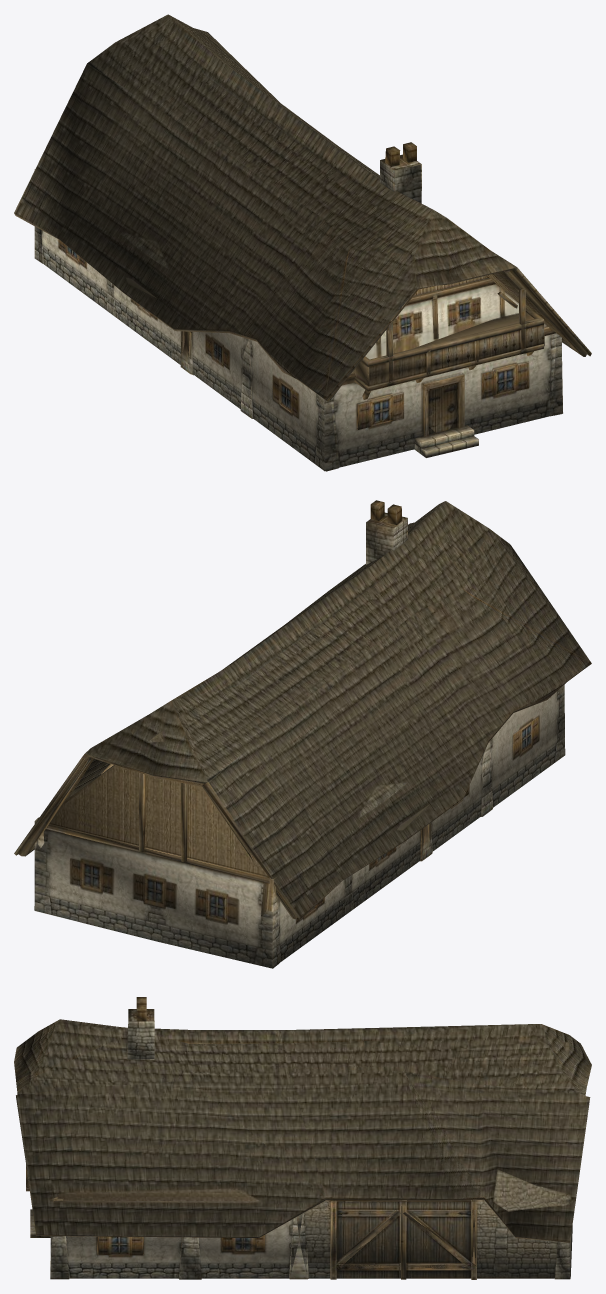
The model's file is building-farmhouse.glb.
3 views of the same model, one above another, from view 1: azimuth 30°, elevation 25°; view 2: azimuth 150°, elevation 25°; view 3: azimuth 270°, elevation 25° (orthographic). The views are drawn at different scales.
Size of the model in its own units: 0.4878 by 0.4201 by 0.9561.
Materials: 1 (1 with a texture image).
